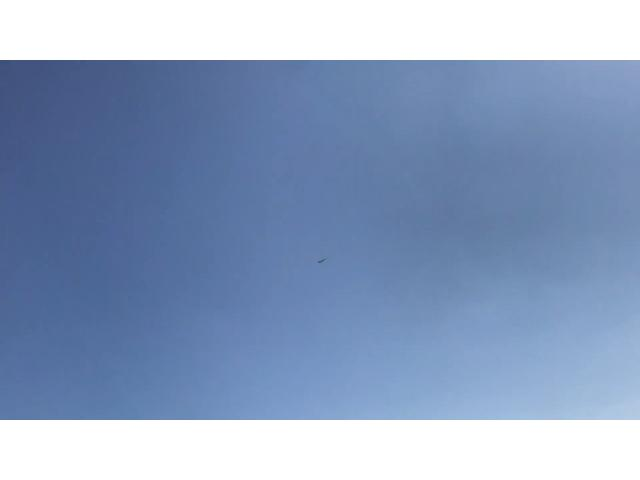Anti-Drone: (307, 244, 339, 277)
